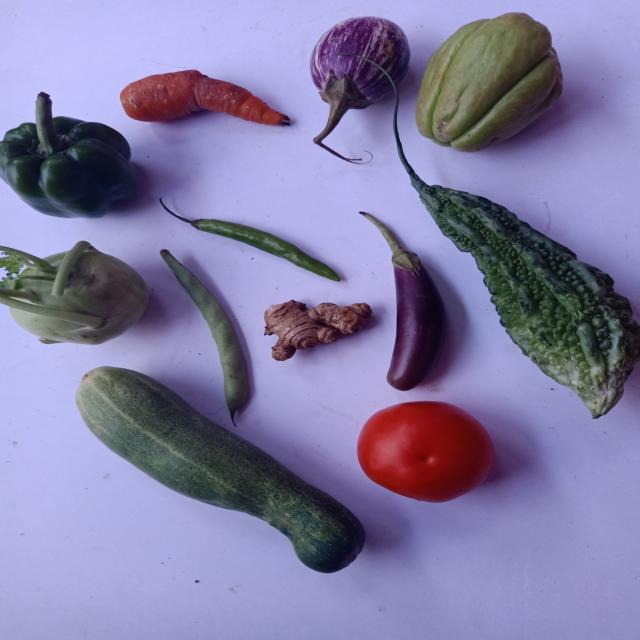Beans: (159, 249, 247, 421)
Bitter Gourd: (394, 91, 640, 418)
Brinjal: (360, 212, 445, 391)
Capsicum: (0, 91, 137, 218)
Carrot: (119, 69, 290, 125)
Chayote: (416, 12, 563, 151)
Cucumber: (75, 367, 364, 574)
Eggplant: (310, 16, 410, 143)
Ginger: (264, 300, 372, 361)
Green Chilly: (159, 198, 339, 281)
Tomato: (357, 402, 494, 503)
Turnip: (0, 241, 147, 344)
